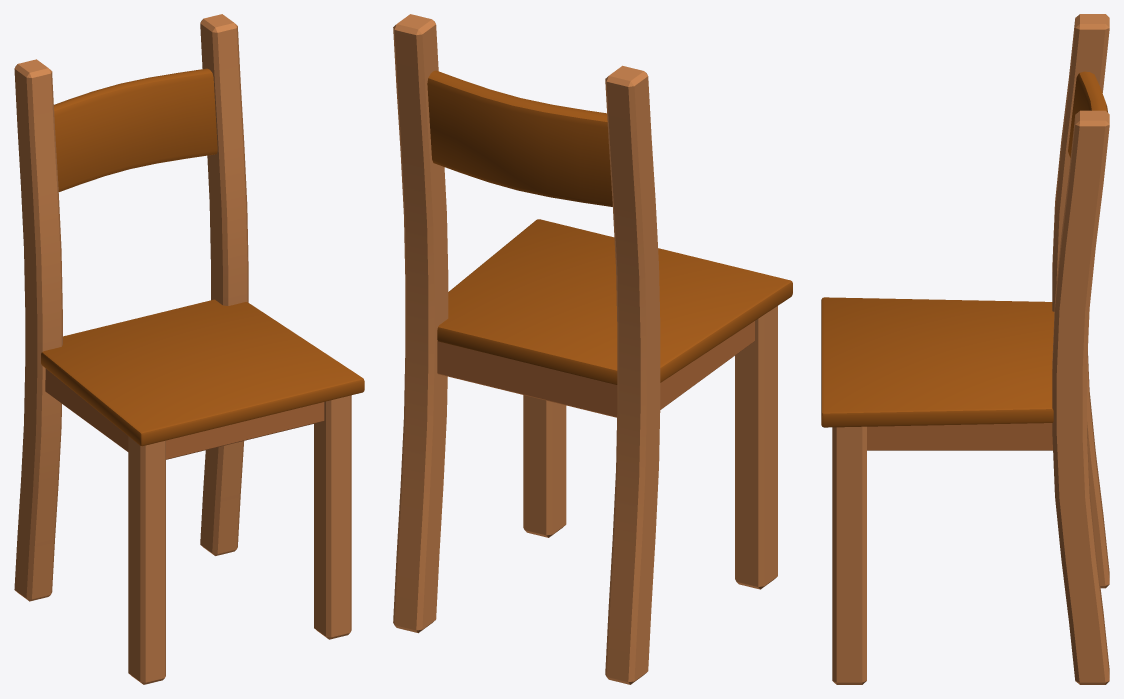
Rendered from Chair.glb.
3 views of the same model, side by side, from view 1: azimuth 30°, elevation 25°; view 2: azimuth 150°, elevation 25°; view 3: azimuth 270°, elevation 25° (orthographic). The views are drawn at different scales.
Parts seen in each view (by area): view 1: Chair; view 2: Chair; view 3: Chair.
Part boxes in pixels (left/top/right/bottom): Chair: left=14, top=14, right=364, bottom=684; Chair: left=393, top=14, right=792, bottom=684; Chair: left=821, top=14, right=1109, bottom=684.
Size of the model in its own units: 0.4 by 0.9 by 0.4172.
1 material, 1 textured.
